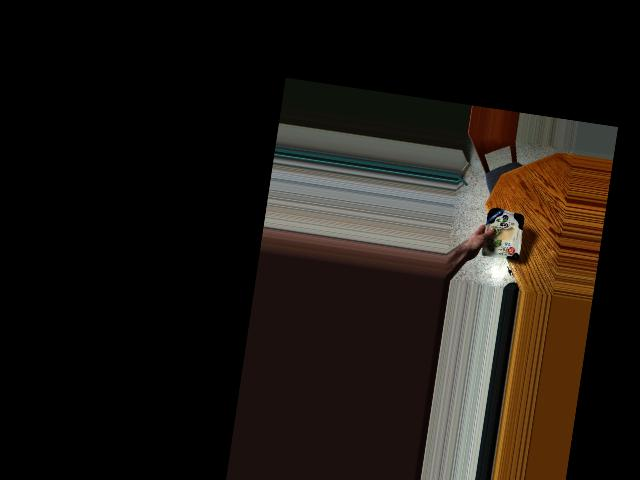cheese: (477, 206, 525, 263)
